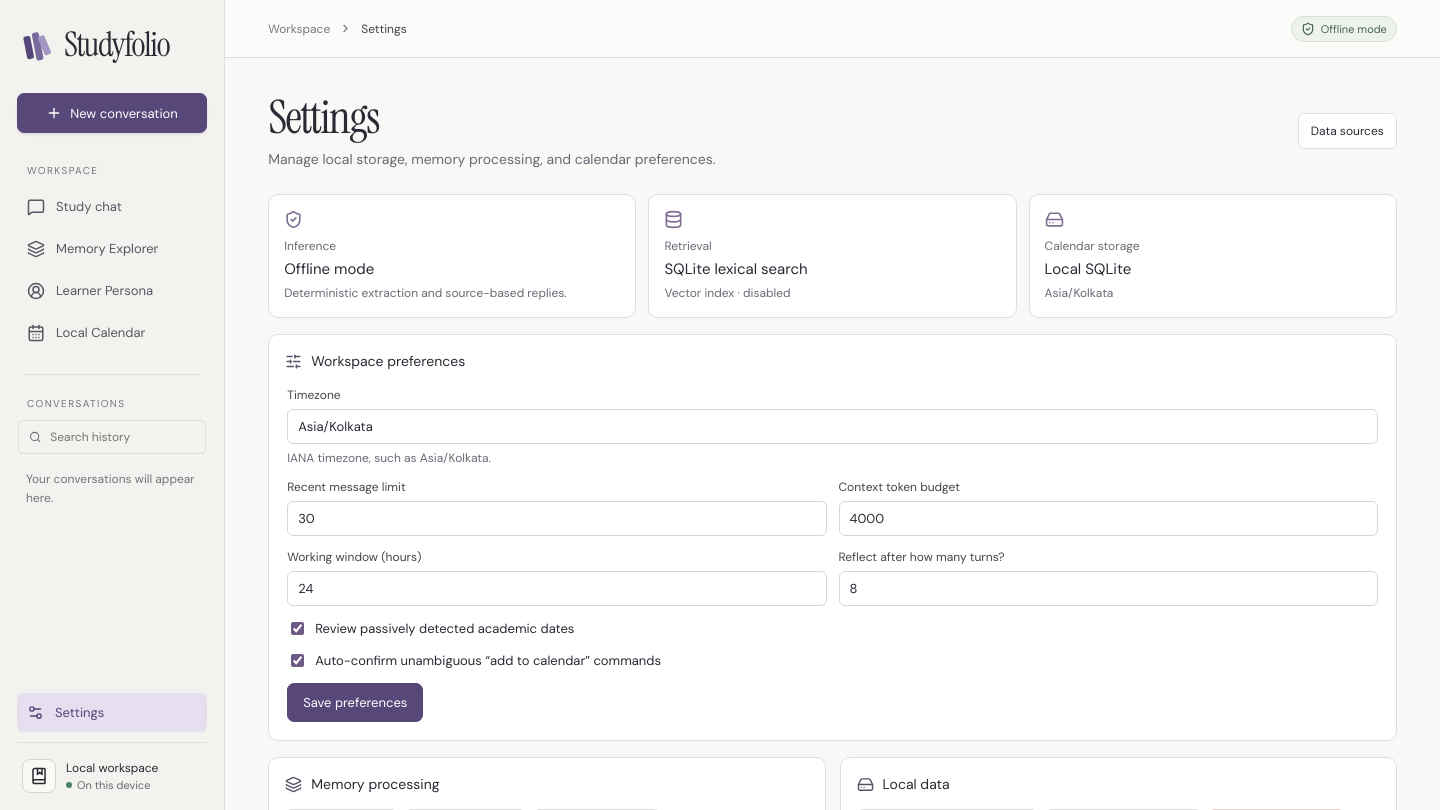
Local workspace › saves settings and requires typed confirmation before erasing data
Replace the text in the number field labelled "Recent message limit" with "19" at (557, 519), box [287,501,826,536]
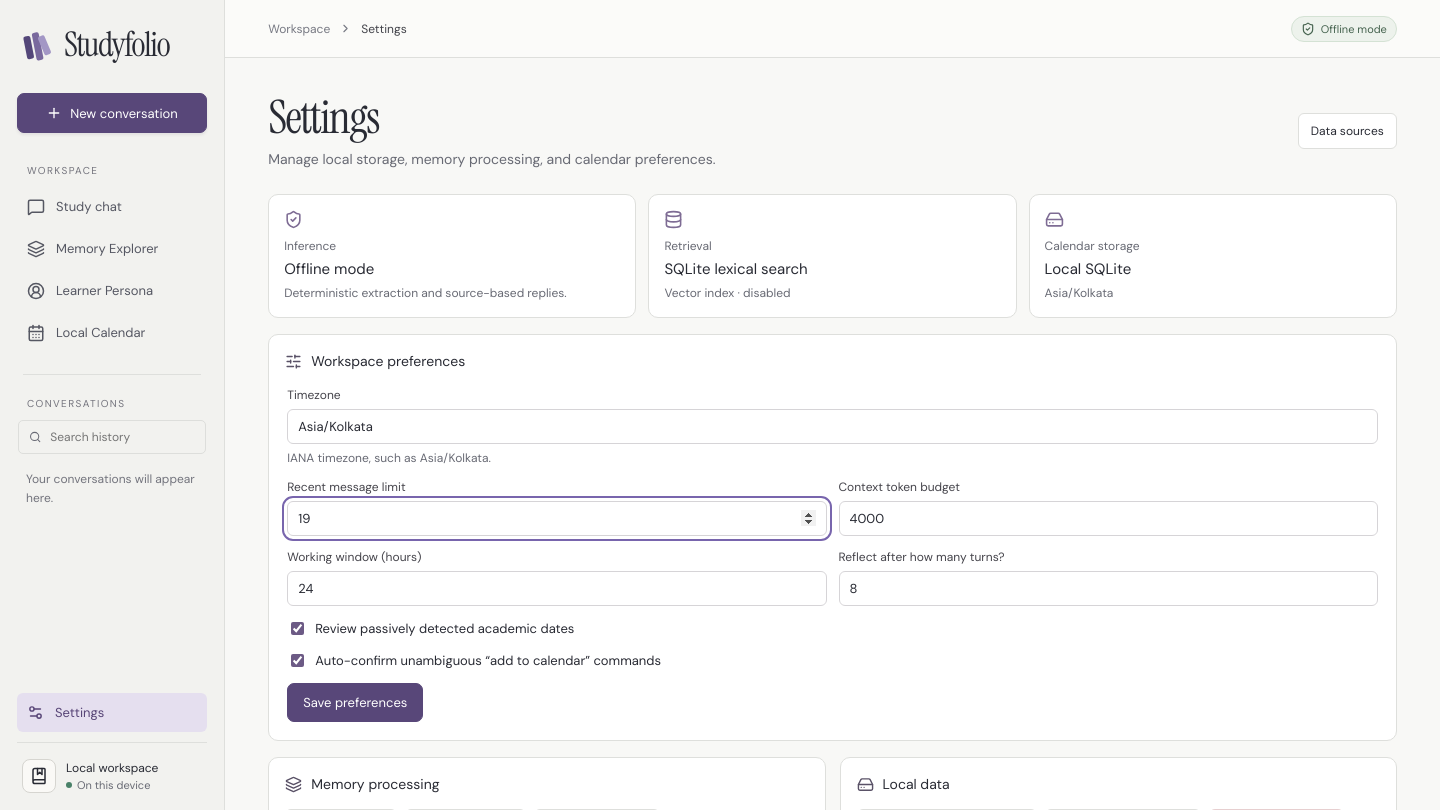
Click the button "Save preferences" at (355, 703), box [287,683,423,722]
(page scrolled)
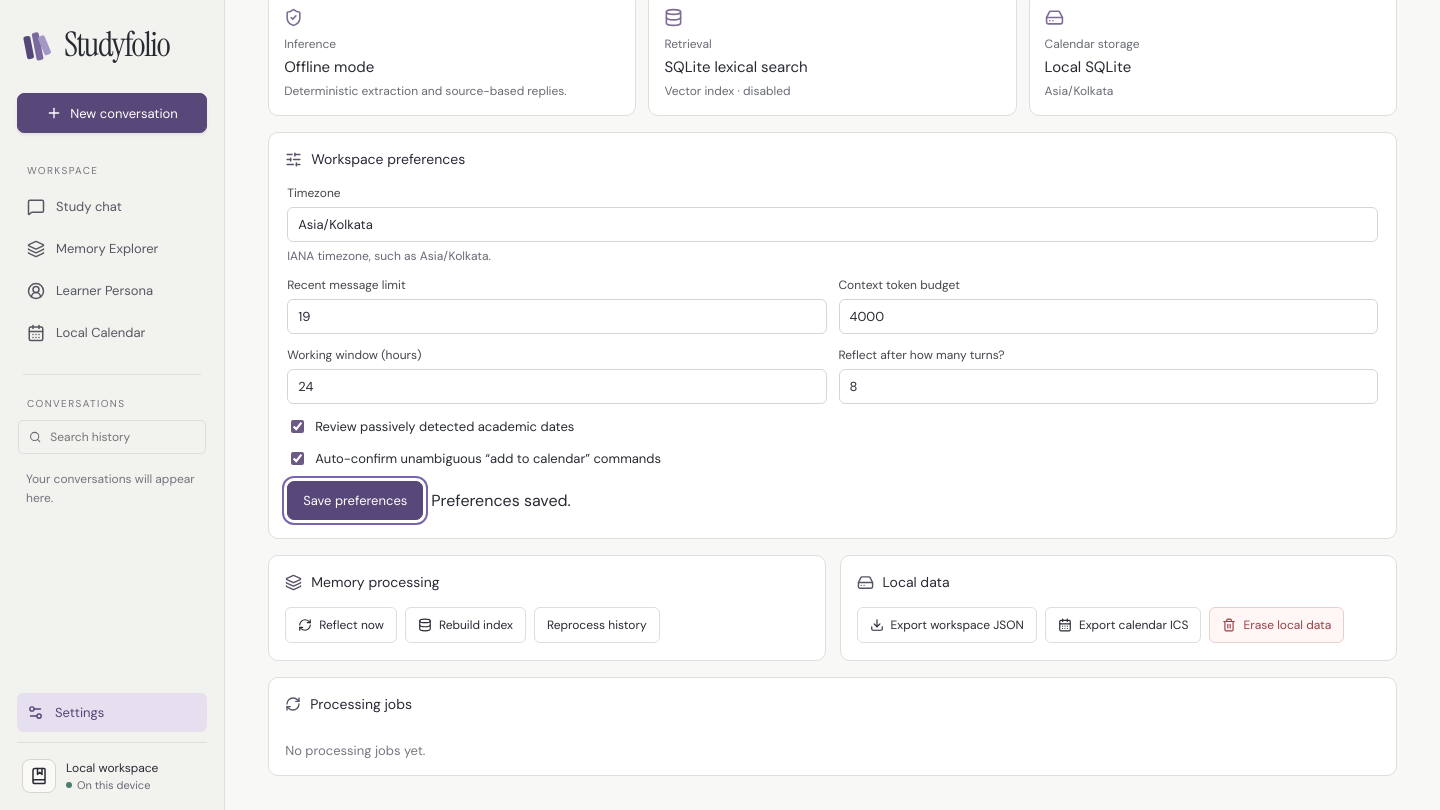
Now the text "Preferences saved." is shown, box [431,490,571,511]
Click the button "Erase local data" at (1277, 625), box [1209,607,1344,643]
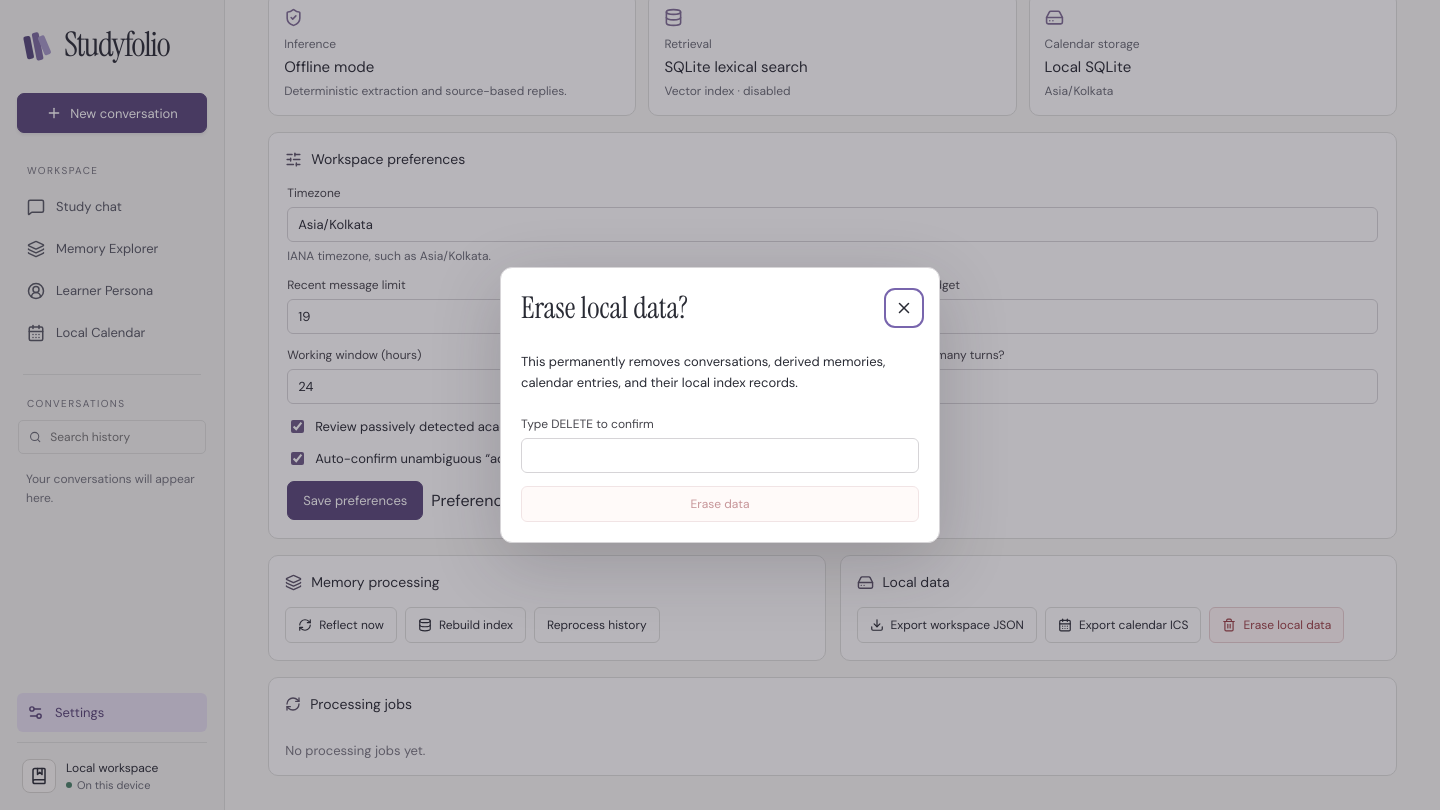
Now the button "Erase data" is disabled, box [521,486,919,522]
